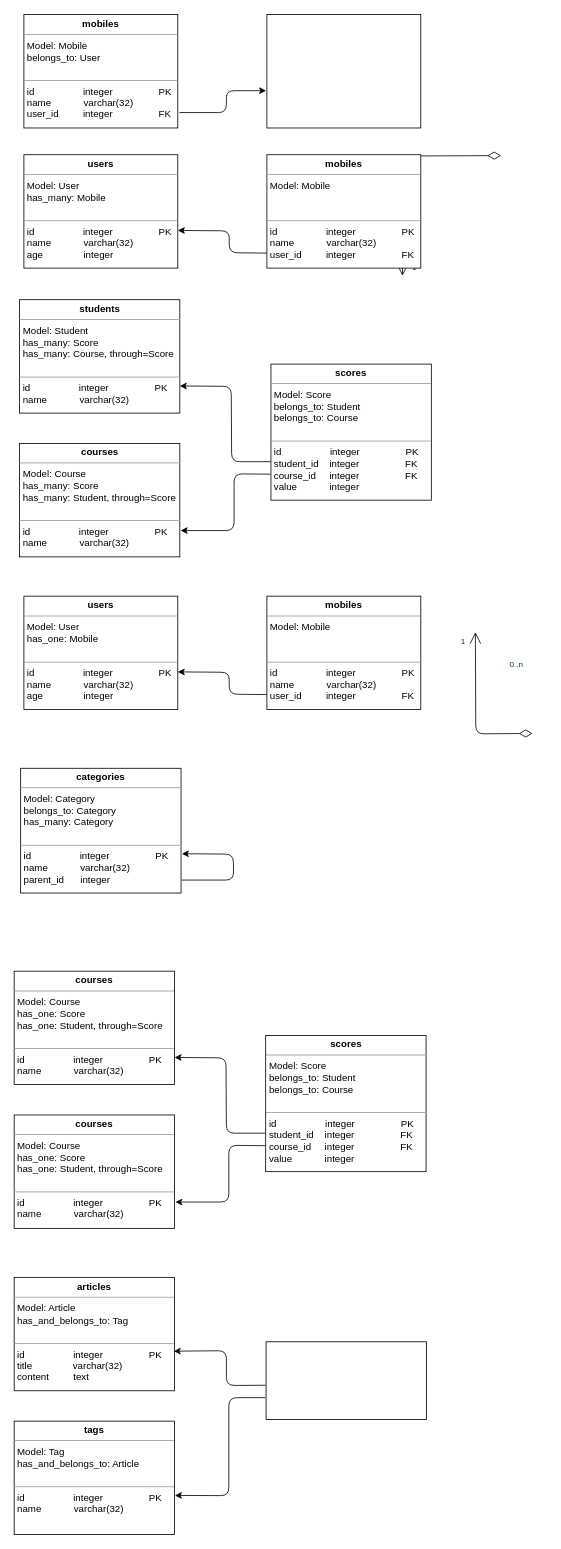
Some shapes in this 561 by 1549 pixel diagram are drawn without their labels. Each missing label, with the centre of its shape:
"articles_tags id integer PK article_id integer FK tag_id integer FK" belongs at (x=345, y=1380).
"users Model: User id integer PK name varchar(32) age integer" belongs at (x=343, y=71).
